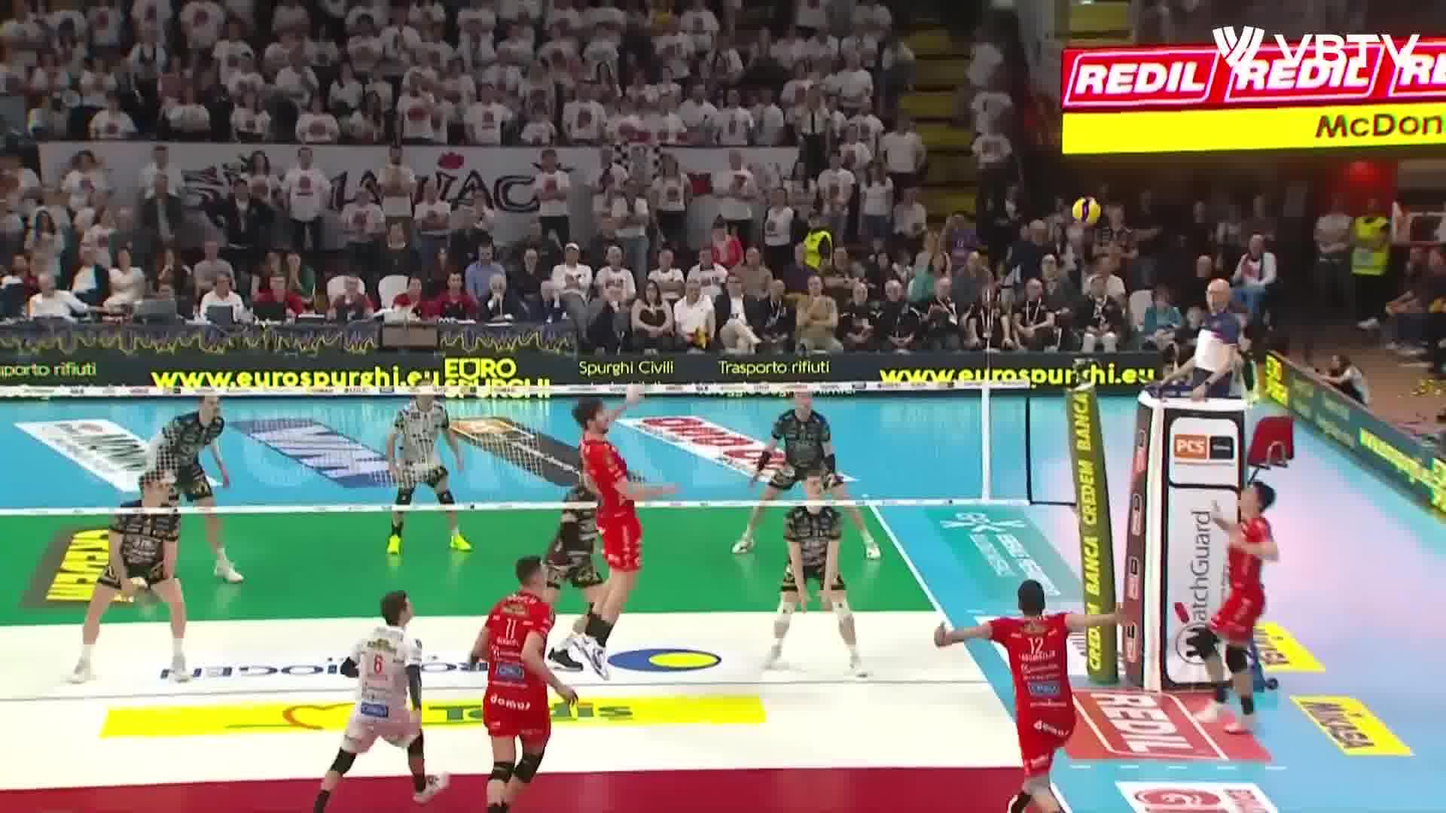balls: (1070, 196, 1105, 230)
